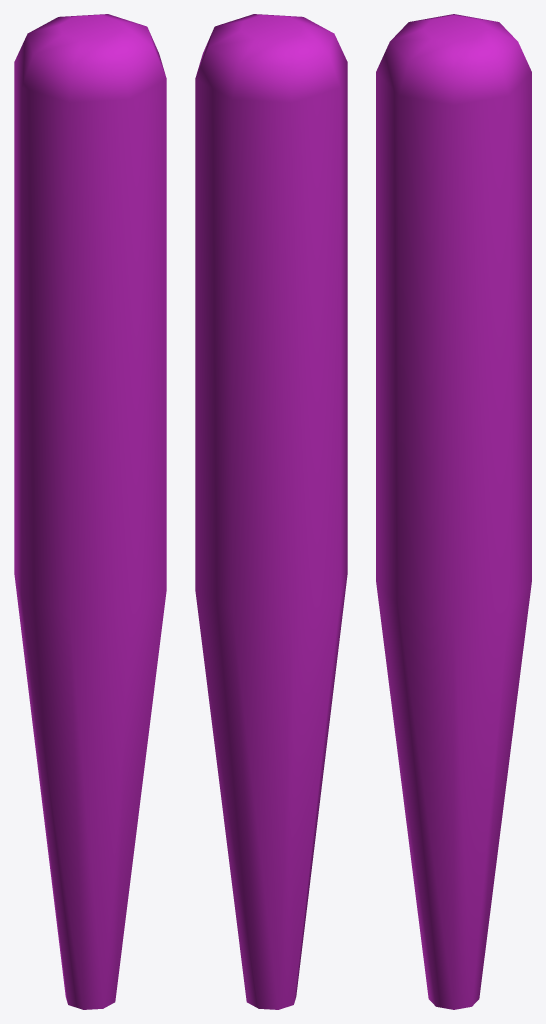
Rendered from COLL_Screwdriver.fbx.
3 renders of one model, left to right at view 1: azimuth 30°, elevation 25°; view 2: azimuth 150°, elevation 25°; view 3: azimuth 270°, elevation 25°, orthographic.
Parts seen in each view (by area): view 1: COLL_Screwdriver; view 2: COLL_Screwdriver; view 3: COLL_Screwdriver.
Part boxes in pixels (box(x1,y1,x2,y2)): COLL_Screwdriver: box(14, 14, 166, 1009); COLL_Screwdriver: box(195, 14, 347, 1009); COLL_Screwdriver: box(376, 14, 531, 1009).
Size of the model in its own units: 9.14 by 61.64 by 8.98.
